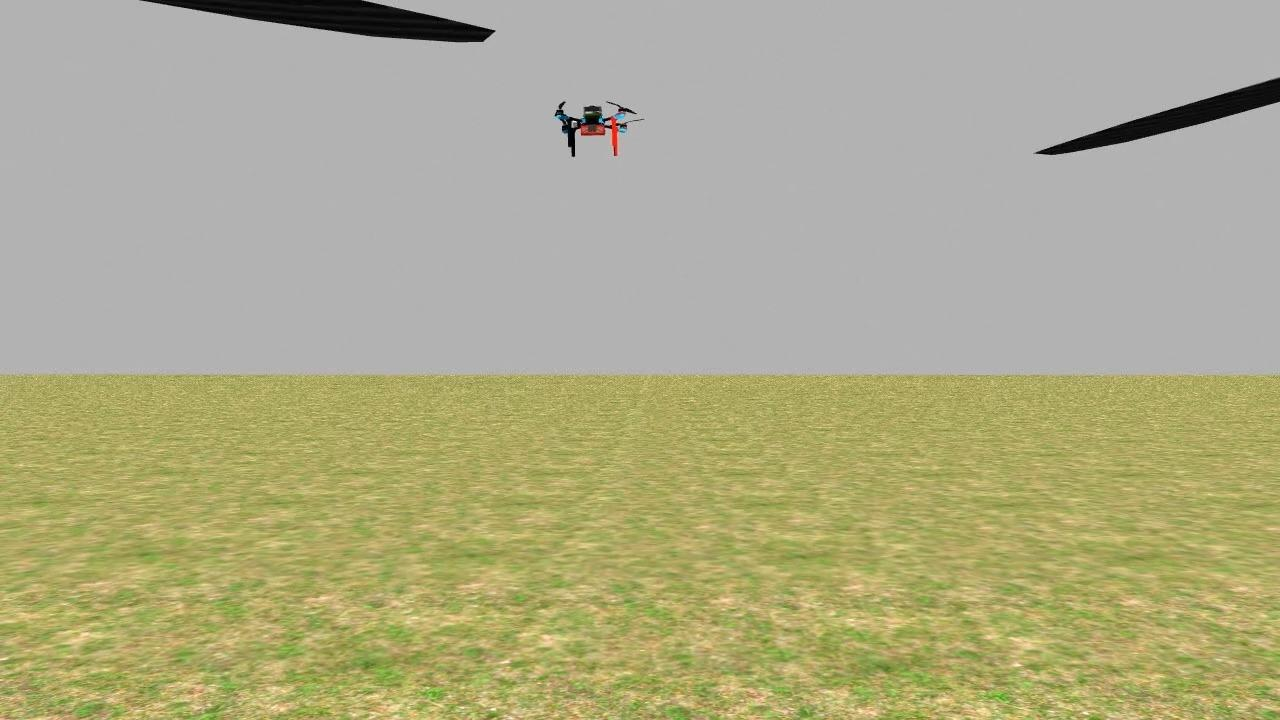UAV: (517, 80, 663, 171)
